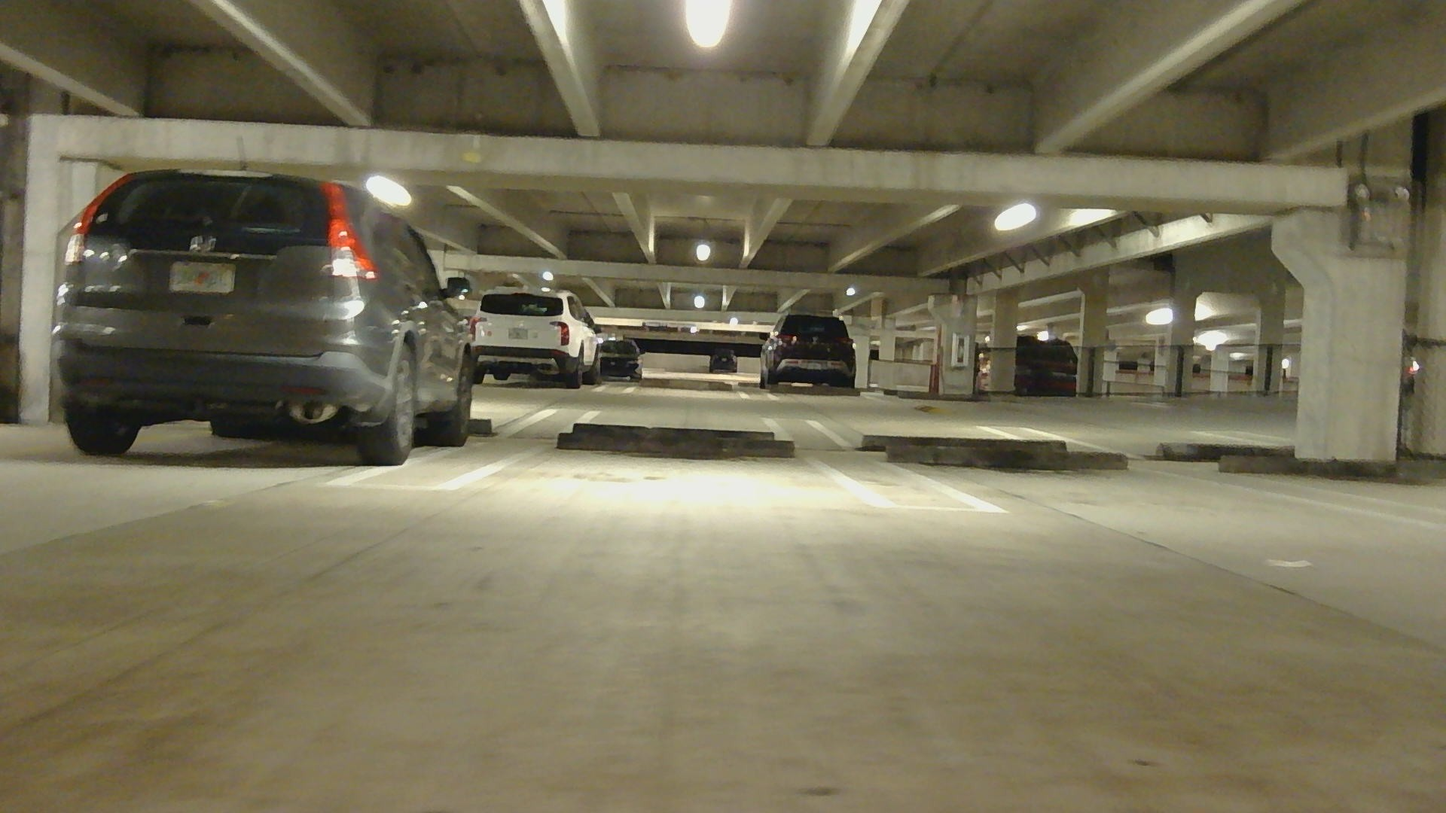empty_spot: (885, 443, 1440, 531), (464, 429, 875, 506)
occupied_spot: (62, 168, 482, 467)
